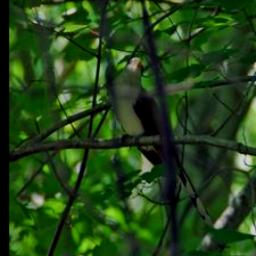Cuckoo: (108, 54, 221, 230)
